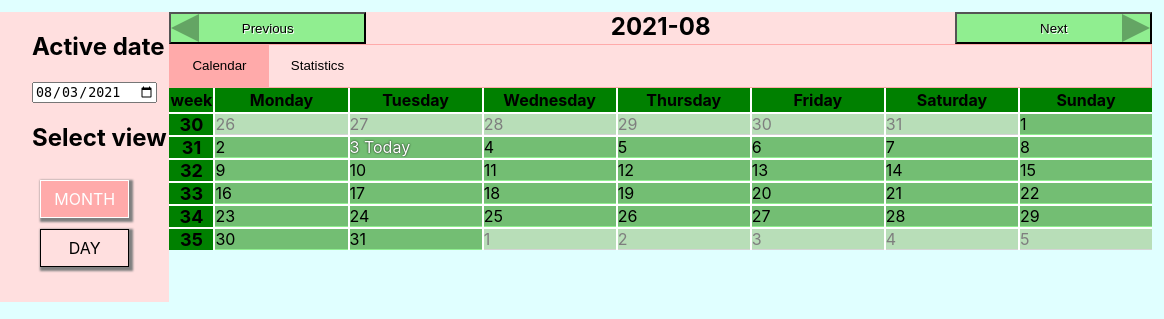
Test: Calendar › Month changes › August 2021 Previous Month is July 2021
What coordinates should you click on to do the following:
click the button "Previous"
I would click on:
 (268, 28)
Its box is [170,12,366,44].
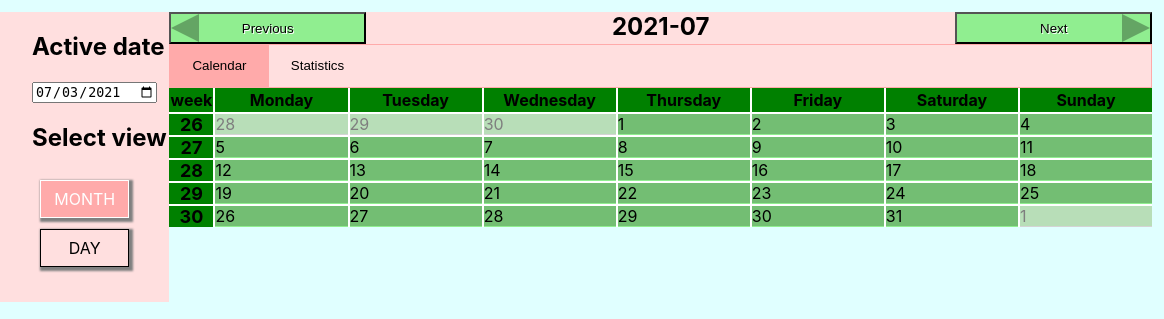
Result: the heading "2021-07" is shown at [612,12,710,41]
